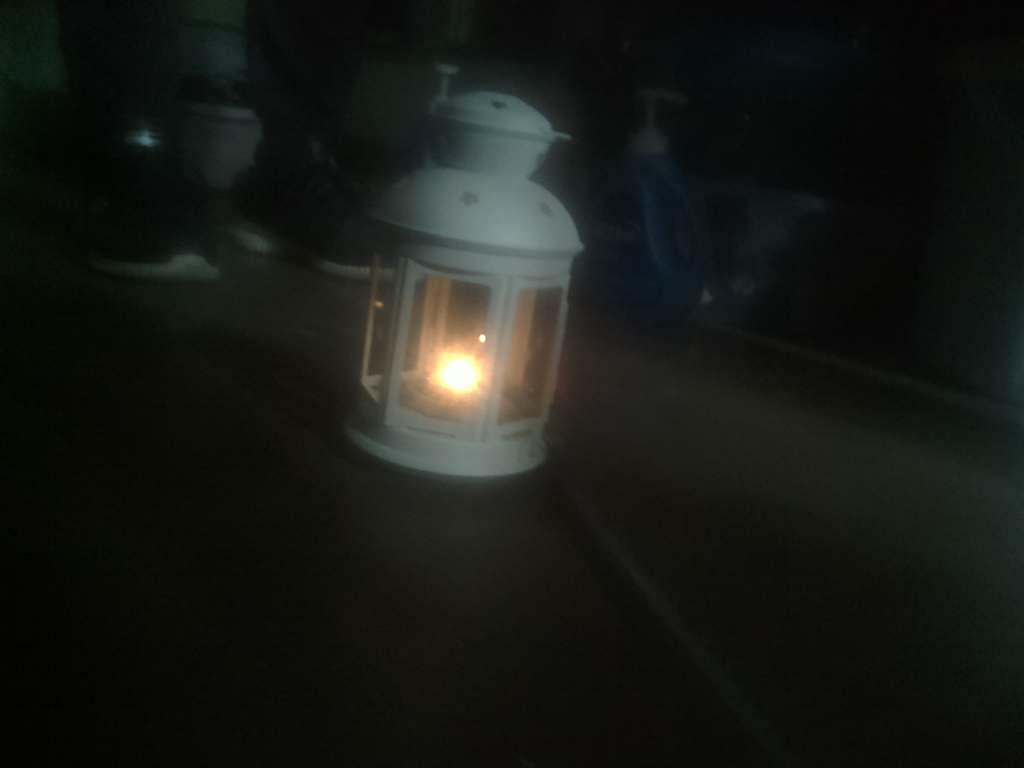fire: (407, 324, 510, 426)
